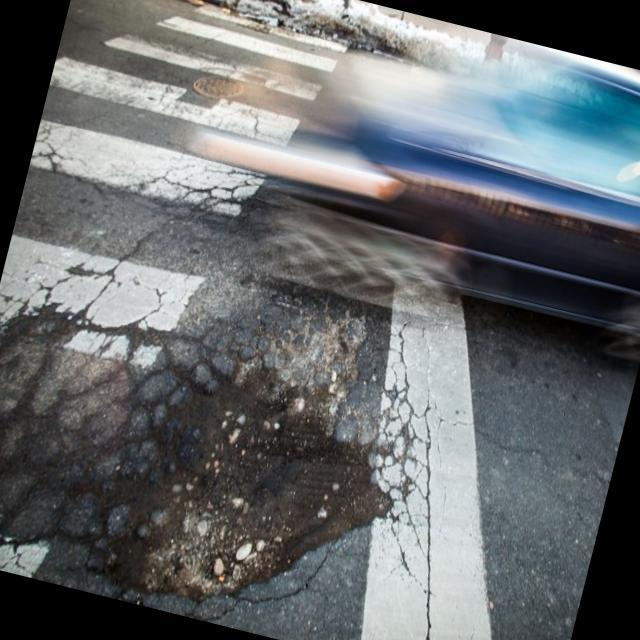Pothole: (0, 286, 446, 640)
